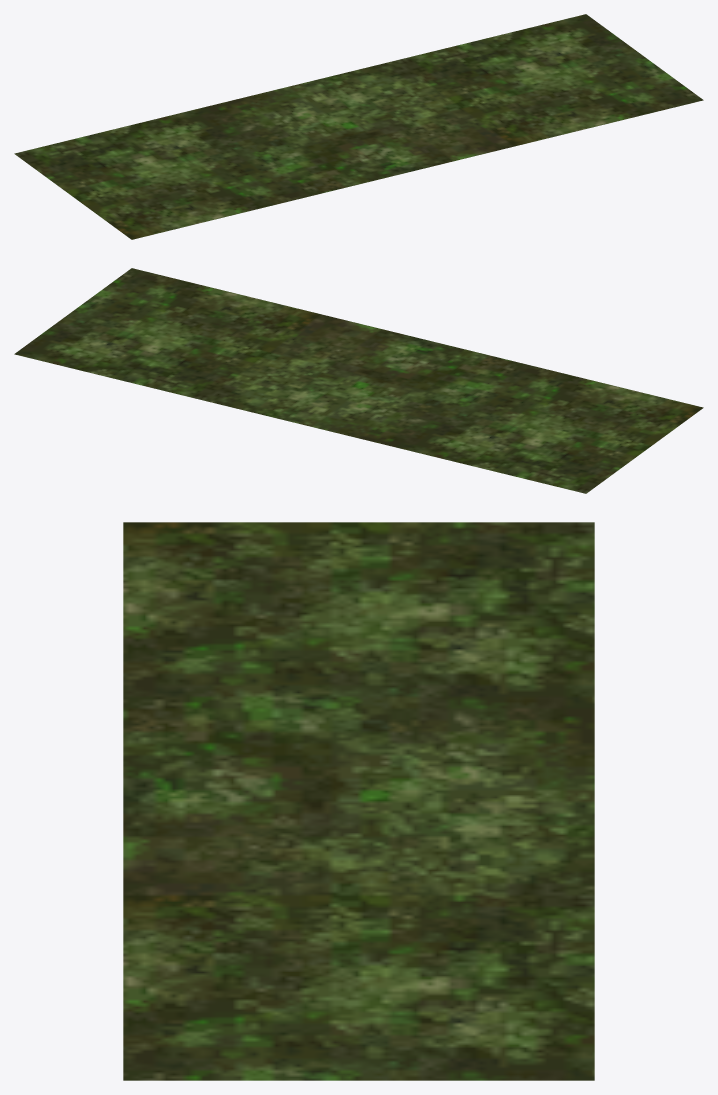
Rendered from OVERHILL_A_01_LINE181.fbx.
The picture shows the model from 3 angles, top to bottom: view 1: azimuth 30°, elevation 25°; view 2: azimuth 150°, elevation 25°; view 3: azimuth 270°, elevation 25°; orthographic projection. The views are drawn at different scales.
Parts seen in each view (by area): view 1: OVERHILL_A_01_LINE181; view 2: OVERHILL_A_01_LINE181; view 3: OVERHILL_A_01_LINE181.
Part boxes in pixels (x1,y1,x2,y2): OVERHILL_A_01_LINE181: [14, 14, 703, 239]; OVERHILL_A_01_LINE181: [14, 268, 703, 493]; OVERHILL_A_01_LINE181: [123, 522, 594, 1080].
Bounding box in the file's own units: 56088 × 0.00326 × 20000.
Materials: 1 (1 with a texture image).
